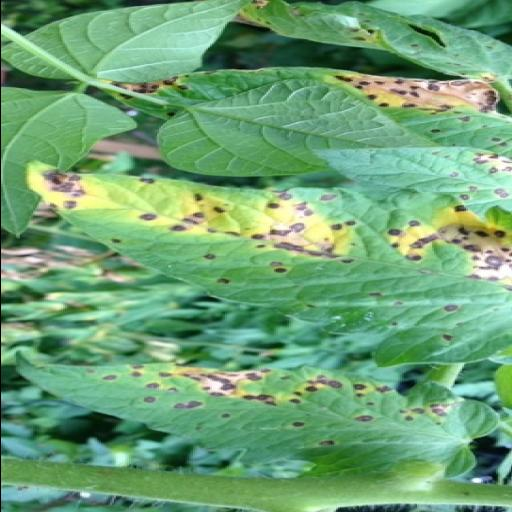Septoria: (21, 160, 510, 338), (13, 360, 493, 482), (230, 0, 512, 80), (310, 142, 512, 216)
